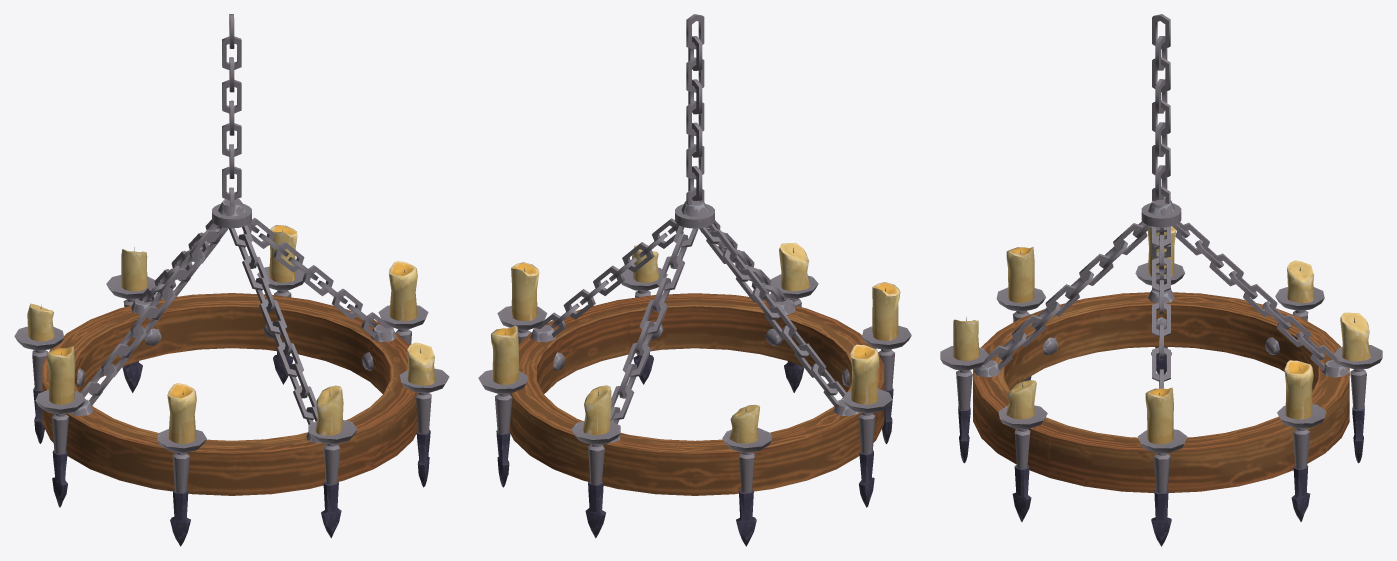
The model's file is Chandelier.gltf.
3 views of the same model, side by side, from view 1: azimuth 30°, elevation 25°; view 2: azimuth 150°, elevation 25°; view 3: azimuth 270°, elevation 25° (orthographic).
Parts seen in each view (by area): view 1: Chandelier; view 2: Chandelier; view 3: Chandelier.
Part boxes in pixels (x1,y1,x2,y2): Chandelier: (14, 14, 449, 546); Chandelier: (478, 14, 911, 546); Chandelier: (940, 14, 1382, 546).
Bounding box in the file's own units: 1.3 × 1.46 × 1.3.
Materials: 3 (3 with a texture image).
